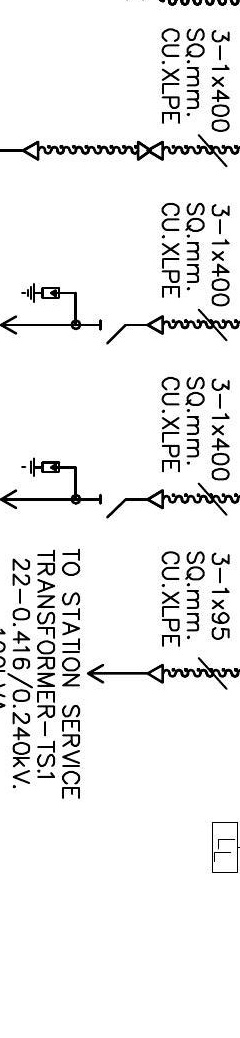LL: (210, 821, 239, 875)
terminator_single: (22, 140, 41, 162), (147, 663, 165, 685), (147, 488, 165, 510), (147, 314, 165, 336)
terminator_splicing_kits: (137, 140, 165, 161)
